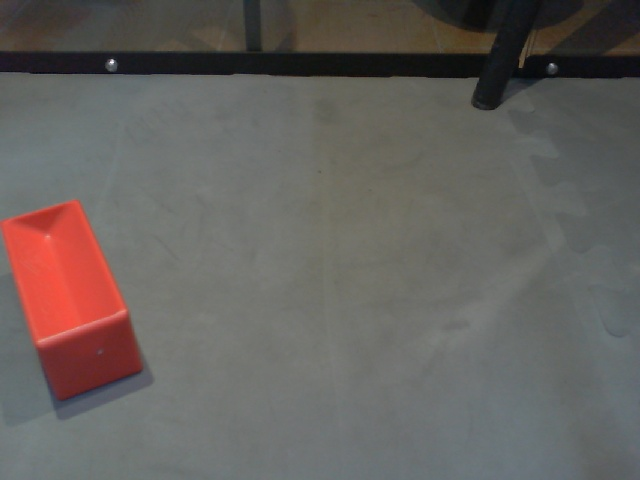RedSample: (1, 193, 146, 405)
